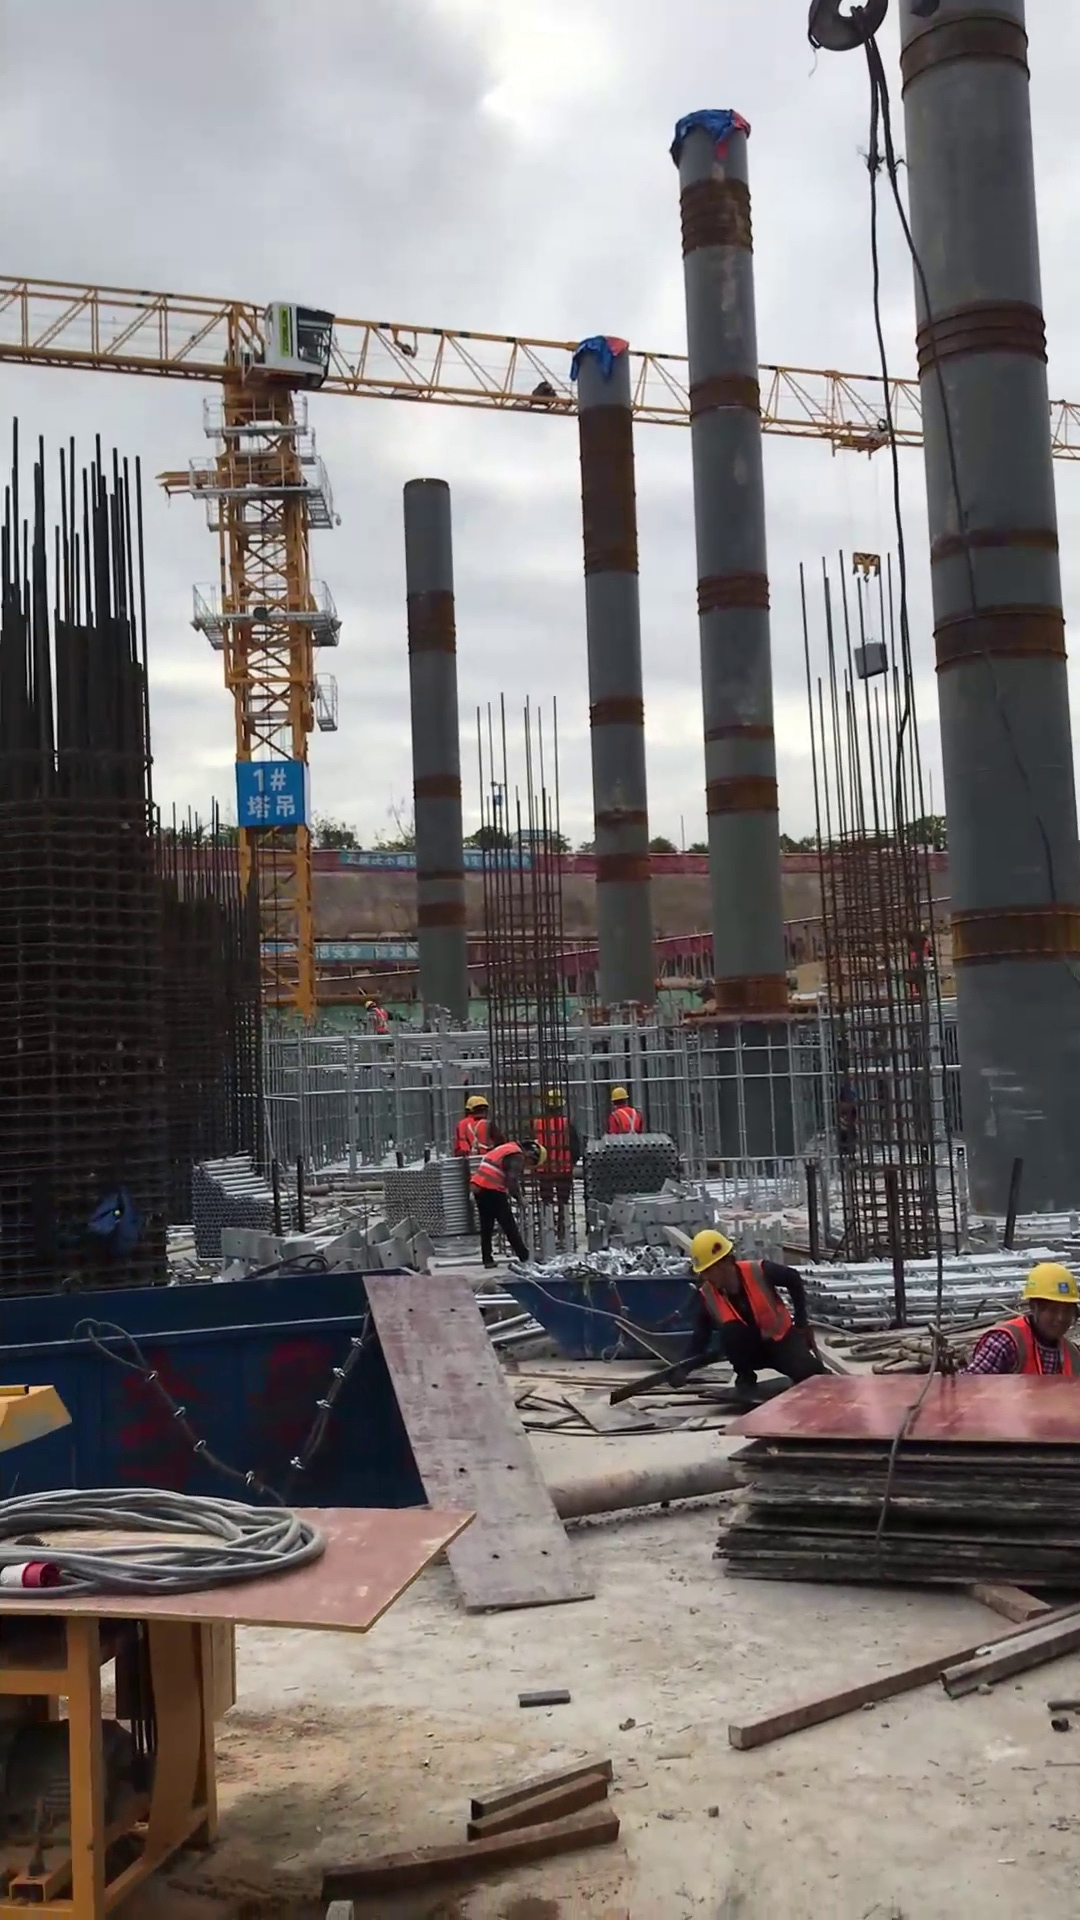board: (711, 1368, 1080, 1603)
cutter: (1, 1508, 378, 1913)
helmet: (1017, 1255, 1080, 1310), (682, 1224, 739, 1277), (456, 1089, 492, 1116), (532, 1141, 554, 1176), (606, 1083, 629, 1107), (360, 996, 377, 1016)
hook: (842, 546, 887, 584)
hopper: (1, 1256, 428, 1523), (506, 1263, 711, 1367)
person: (651, 1218, 845, 1411), (959, 1251, 1080, 1395), (465, 1139, 555, 1277), (447, 1083, 509, 1172), (597, 1079, 650, 1148), (355, 990, 397, 1041)
scaffold: (185, 1150, 307, 1263), (580, 1133, 689, 1211), (378, 1164, 478, 1240)
slogan: (314, 941, 424, 963), (341, 850, 417, 871)
vest: (693, 1255, 799, 1344), (966, 1316, 1072, 1380), (471, 1138, 525, 1198), (454, 1109, 493, 1159), (604, 1102, 647, 1139), (371, 1007, 393, 1037)
